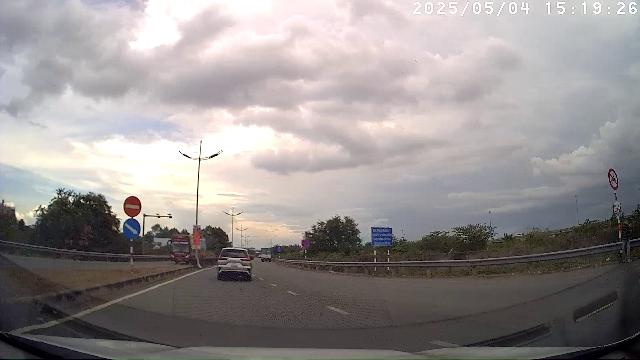102-cam-di-nguoc-chieu: (122, 194, 142, 216)
130-cam-dung-va-do-xe: (302, 240, 310, 248)
302a-huong-phai-di-vong-chuong-ngai-vat-1: (123, 218, 141, 238)
